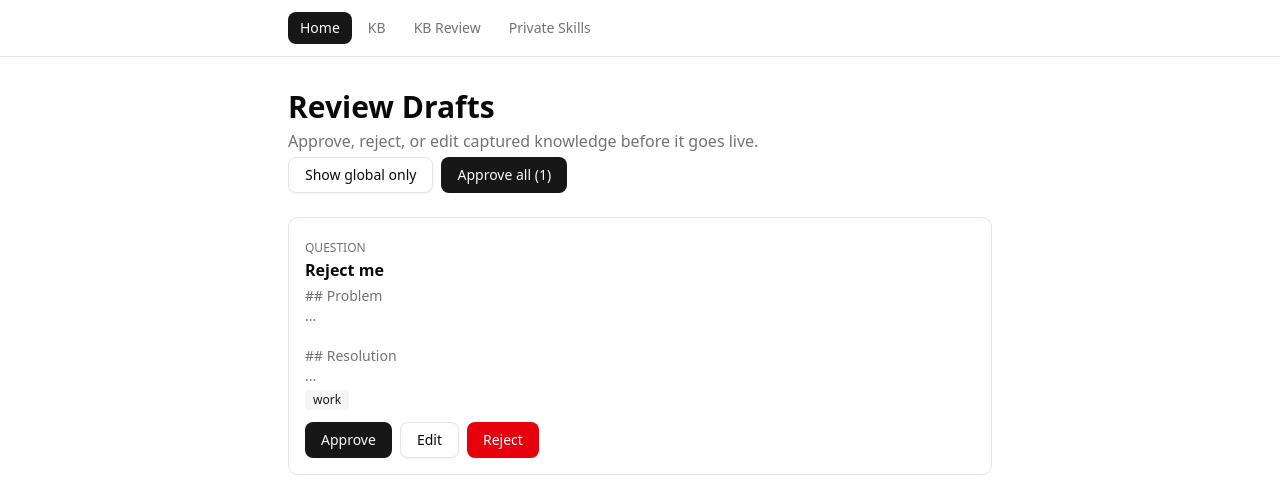
Test case: KB Review screen › removes a draft from the list after the reviewer rejects it
The image size is (1280, 492).
Click the button "Reject" at (503, 440), box [467,422,539,458]
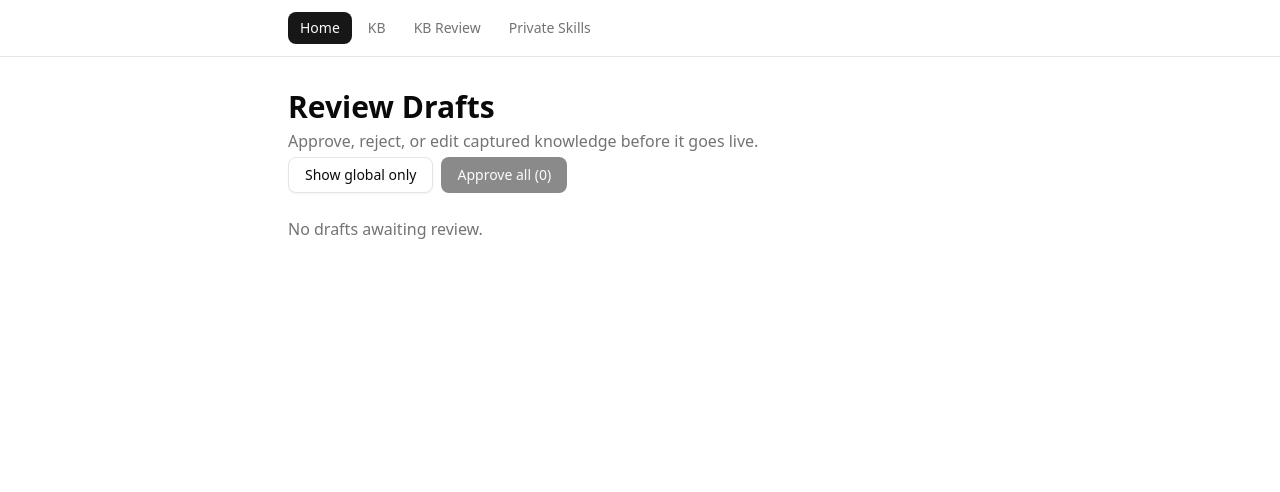
Check: the heading "Reject me" is gone
